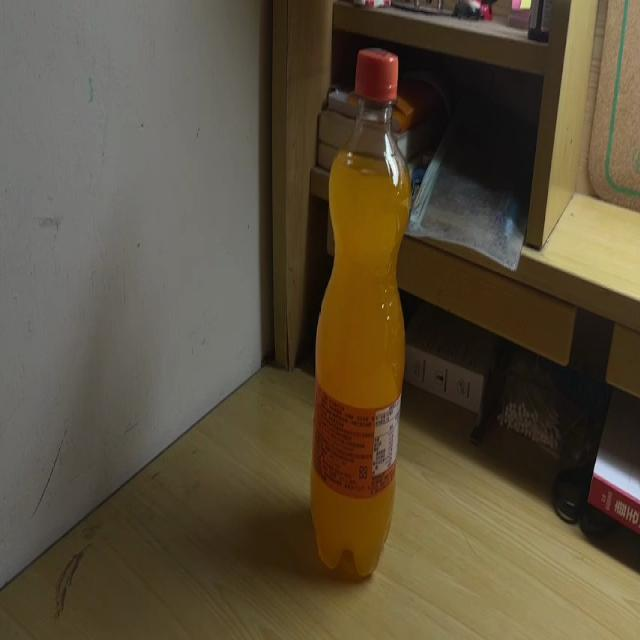Fanta: (309, 48, 413, 579)
